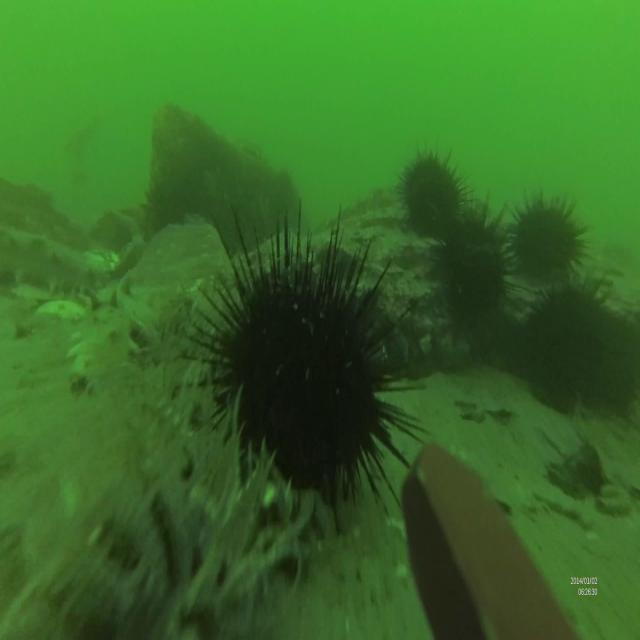echinus: (194, 221, 421, 525), (521, 293, 639, 413), (434, 196, 520, 329), (505, 193, 597, 296), (396, 143, 471, 234)
starfish: (38, 297, 86, 326)
